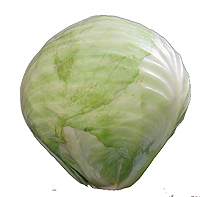cabbage: (19, 14, 192, 191)
